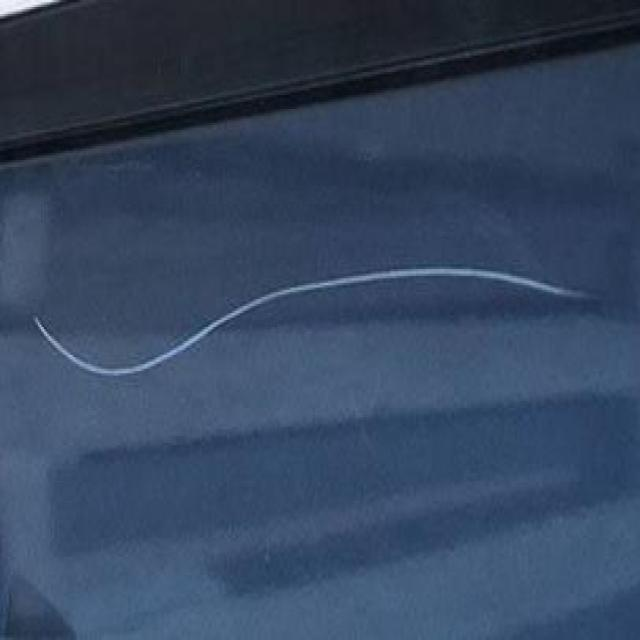scratch: (30, 263, 610, 382)
